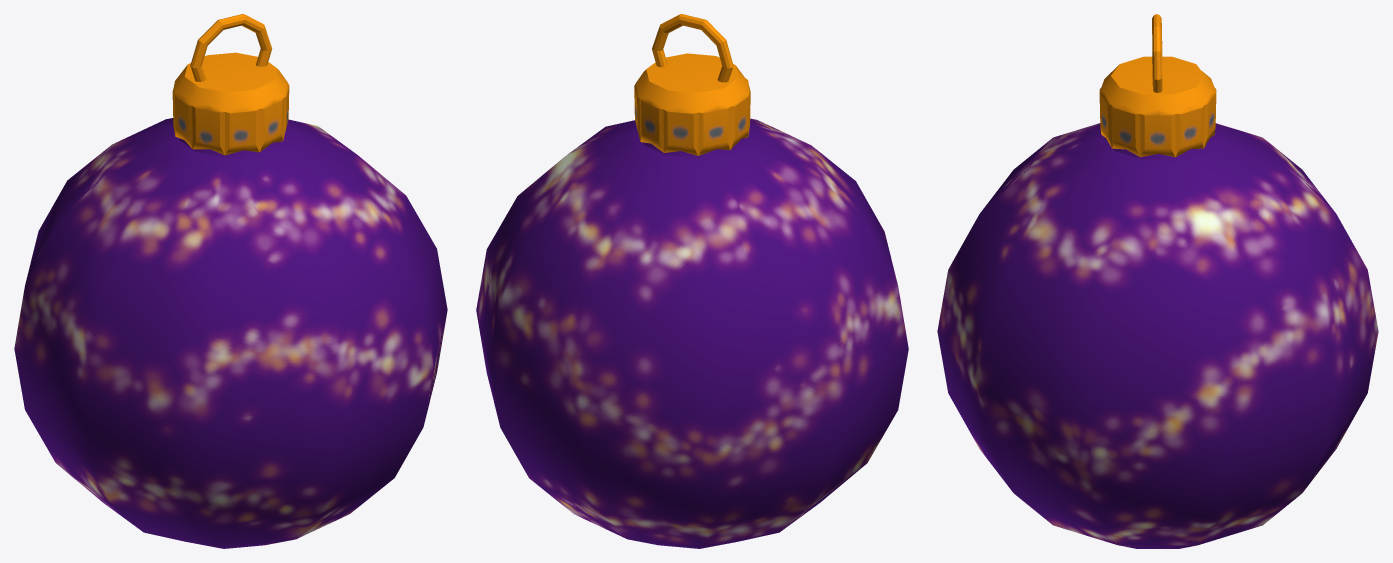
3 renders of one model, left to right at view 1: azimuth 30°, elevation 25°; view 2: azimuth 150°, elevation 25°; view 3: azimuth 270°, elevation 25°, orthographic.
Visible parts, largest first — view 1: pTorus8_kugel_lila_0; view 2: pTorus8_kugel_lila_0; view 3: pTorus8_kugel_lila_0.
Boxes of the visible parts, x1,y1,x2,y2 form: pTorus8_kugel_lila_0: (14, 14, 447, 548); pTorus8_kugel_lila_0: (476, 14, 908, 548); pTorus8_kugel_lila_0: (937, 14, 1378, 548).
Size of the model in its own units: 0.2611 by 0.3511 by 0.2745.
2 materials, 2 textured.
